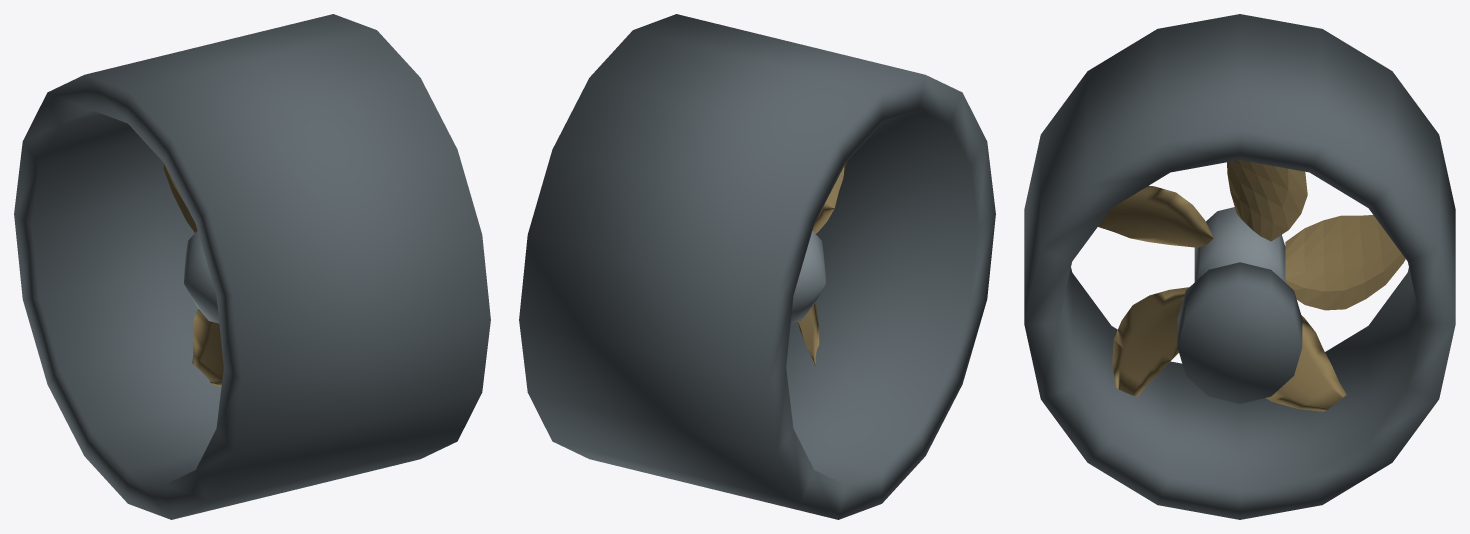
File: THRUSTER_TUNNEL_LOD2.fbx
3 renders of one model, left to right at view 1: azimuth 30°, elevation 25°; view 2: azimuth 150°, elevation 25°; view 3: azimuth 270°, elevation 25°, orthographic. The views are drawn at different scales.
Visible parts, largest first — view 1: THRUSTER_TUNNEL_LOD2_Duct.001, THRUSTER_TUNNEL_LOD2_Hub.001, THRUSTER_TUNNEL_LOD2_Impeller_04.001; view 2: THRUSTER_TUNNEL_LOD2_Duct.001, THRUSTER_TUNNEL_LOD2_Hub.001, THRUSTER_TUNNEL_LOD2_Impeller_03.001, THRUSTER_TUNNEL_LOD2_Impeller_02.001; view 3: THRUSTER_TUNNEL_LOD2_Duct.001, THRUSTER_TUNNEL_LOD2_MountFlange.001, THRUSTER_TUNNEL_LOD2_Impeller_00.001, THRUSTER_TUNNEL_LOD2_Impeller_03.001, THRUSTER_TUNNEL_LOD2_Impeller_01.001, THRUSTER_TUNNEL_LOD2_Impeller_02.001, THRUSTER_TUNNEL_LOD2_Hub.001, THRUSTER_TUNNEL_LOD2_Impeller_04.001.
Boxes of the visible parts, <box> form: THRUSTER_TUNNEL_LOD2_Duct.001: <box>14,14,490,519</box>; THRUSTER_TUNNEL_LOD2_Hub.001: <box>184,231,219,323</box>; THRUSTER_TUNNEL_LOD2_Impeller_04.001: <box>192,309,223,386</box>; THRUSTER_TUNNEL_LOD2_Duct.001: <box>519,14,995,519</box>; THRUSTER_TUNNEL_LOD2_Hub.001: <box>790,231,825,323</box>; THRUSTER_TUNNEL_LOD2_Impeller_03.001: <box>797,302,819,366</box>; THRUSTER_TUNNEL_LOD2_Impeller_02.001: <box>812,161,847,233</box>; THRUSTER_TUNNEL_LOD2_Duct.001: <box>1024,14,1455,519</box>; THRUSTER_TUNNEL_LOD2_MountFlange.001: <box>1177,262,1302,403</box>; THRUSTER_TUNNEL_LOD2_Impeller_00.001: <box>1285,215,1405,310</box>; THRUSTER_TUNNEL_LOD2_Impeller_03.001: <box>1112,287,1189,396</box>; THRUSTER_TUNNEL_LOD2_Impeller_01.001: <box>1227,160,1307,241</box>; THRUSTER_TUNNEL_LOD2_Impeller_02.001: <box>1098,185,1213,247</box>; THRUSTER_TUNNEL_LOD2_Hub.001: <box>1194,207,1285,281</box>; THRUSTER_TUNNEL_LOD2_Impeller_04.001: <box>1266,315,1346,411</box>.
Size of the model in its own units: 144 by 190 by 190.
